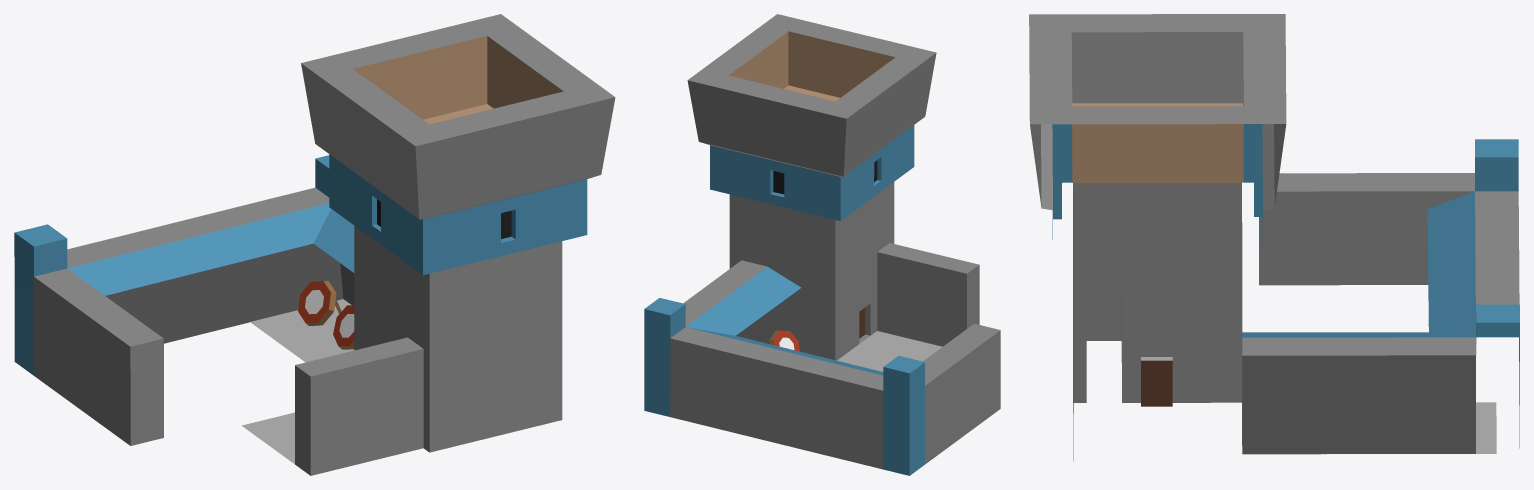
File: ArcheryRange_Model.glb
3 views of the same model, side by side, from view 1: azimuth 30°, elevation 25°; view 2: azimuth 150°, elevation 25°; view 3: azimuth 270°, elevation 25° (orthographic). The views are drawn at different scales.
Visible parts, largest first — view 1: ArcheryRange_Model.001; view 2: ArcheryRange_Model.001; view 3: ArcheryRange_Model.001.
Part boxes in pixels (x1,y1,x2,y2): ArcheryRange_Model.001: (14,14,615,475); ArcheryRange_Model.001: (644,14,1000,475); ArcheryRange_Model.001: (1029,14,1519,460).
Size of the model in its own units: 15.44 by 12.67 by 15.18.
Materials: 1 (1 with a texture image).
